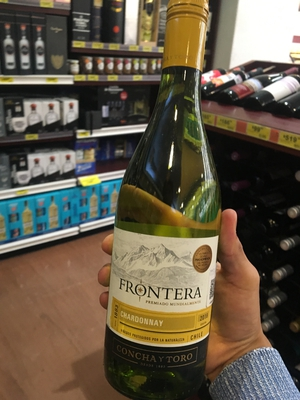frontera chardonnay: (106, 5, 237, 396)
